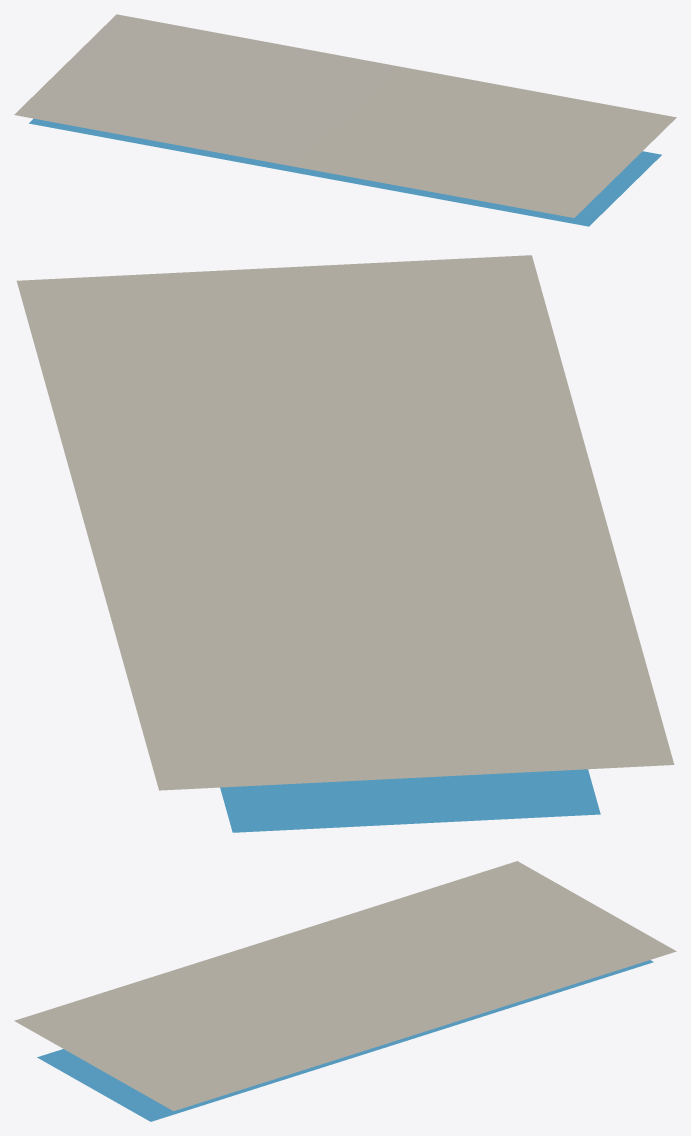
The picture shows the model from 3 angles, top to bottom: view 1: azimuth 30°, elevation 25°; view 2: azimuth 150°, elevation 25°; view 3: azimuth 270°, elevation 25°; orthographic projection. The views are drawn at different scales.
Parts seen in each view (by area): view 1: estructura_terreno, estructura_agua; view 2: estructura_terreno, estructura_agua; view 3: estructura_terreno, estructura_agua.
Boxes of the visible parts, x1,y1,x2,y2 form: estructura_terreno: [14, 14, 676, 217]; estructura_agua: [29, 118, 661, 226]; estructura_terreno: [16, 255, 674, 790]; estructura_agua: [220, 769, 600, 832]; estructura_terreno: [14, 861, 676, 1111]; estructura_agua: [37, 960, 653, 1121].
Bounding box in the file's own units: 9.27 × 0.4311 × 10.43.
